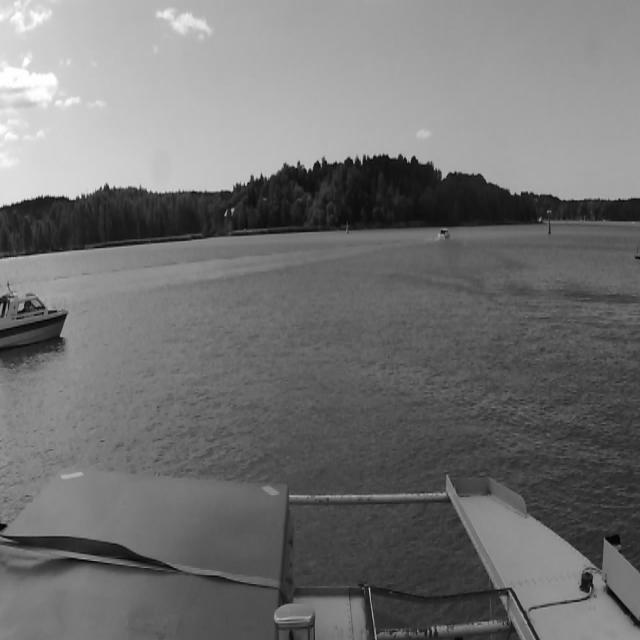buoy: (548, 218, 552, 235), (345, 221, 349, 235)
ship: (0, 279, 70, 352), (438, 228, 450, 242)
